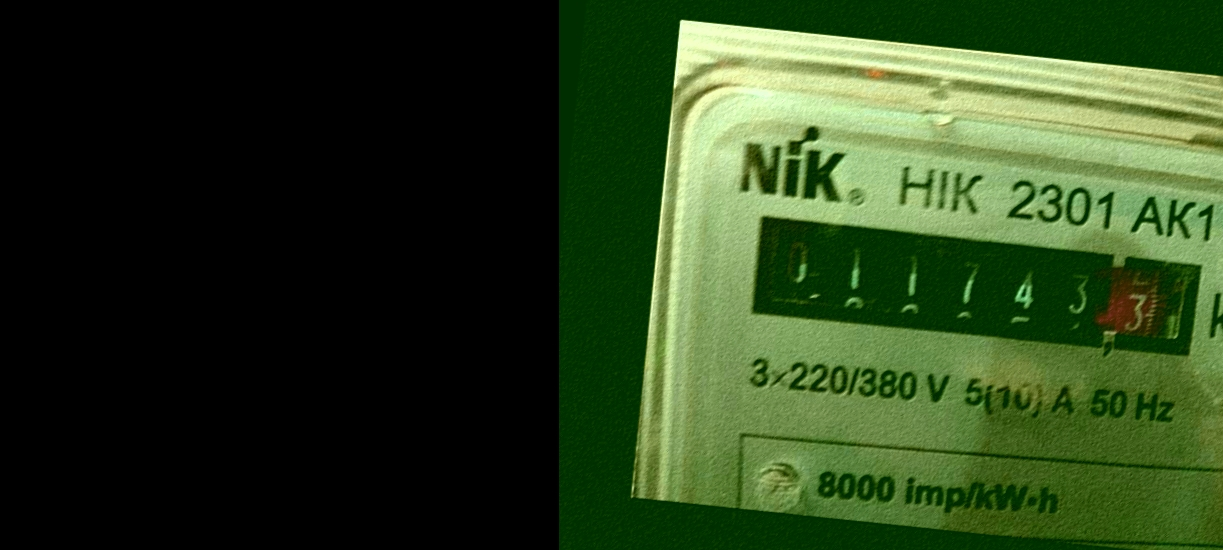0: (781, 238, 815, 287)
1: (900, 251, 926, 301), (846, 245, 868, 295)
3: (1063, 270, 1096, 320), (1122, 290, 1150, 336)
4: (1010, 263, 1043, 314)
7: (956, 259, 985, 309)
screen: (735, 205, 1211, 371)
